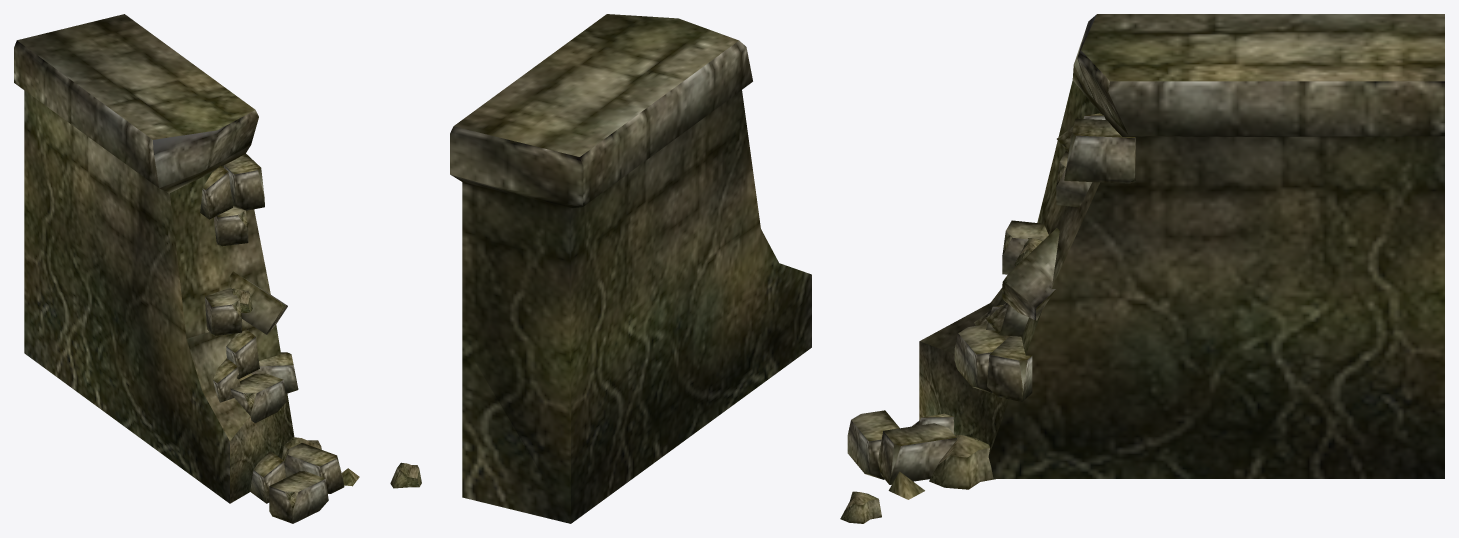
File: S_Build_3star006.FBX
The picture shows the model from 3 angles, left to right: view 1: azimuth 30°, elevation 25°; view 2: azimuth 150°, elevation 25°; view 3: azimuth 270°, elevation 25°; orthographic projection. The views are drawn at different scales.
Visible parts, largest first — view 1: S_Build_3star006; view 2: S_Build_3star006; view 3: S_Build_3star006.
Boxes of the visible parts, x1,y1,x2,y2 form: S_Build_3star006: (14,14,421,523); S_Build_3star006: (450,14,811,523); S_Build_3star006: (840,14,1444,523).
Bounding box in the file's own units: 273 × 632 × 476.
